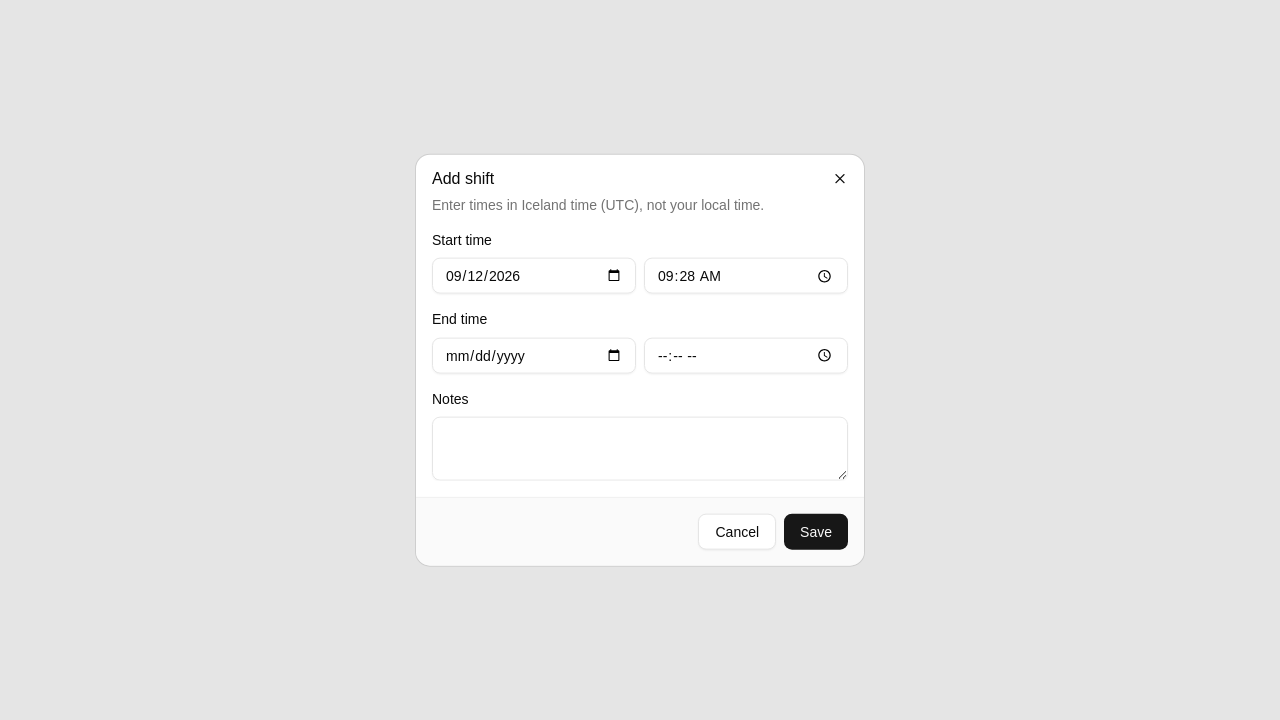
Scenario: ShiftForm › refuses a date with no clock beside it
Type "2026-08-04" into the date field named "End time — date" at (534, 355), box [432,337,636,373]
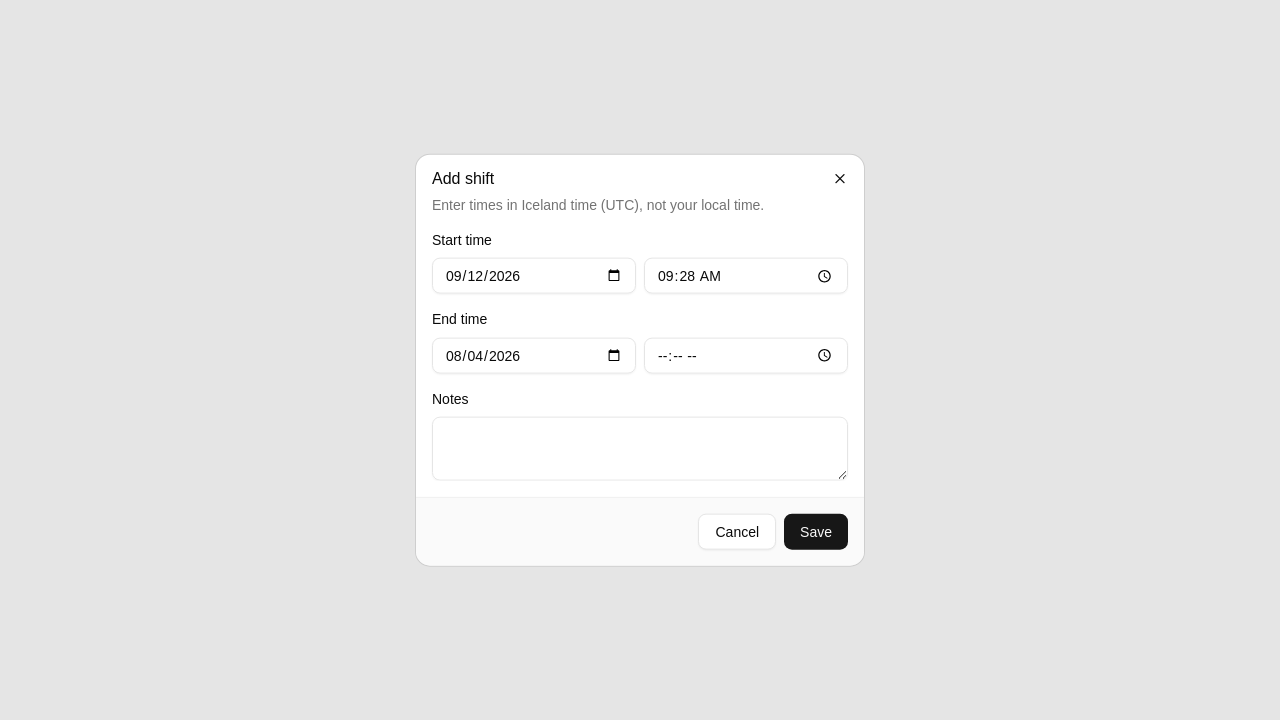
Click the button "Save" at (816, 531), box [784,513,848,549]
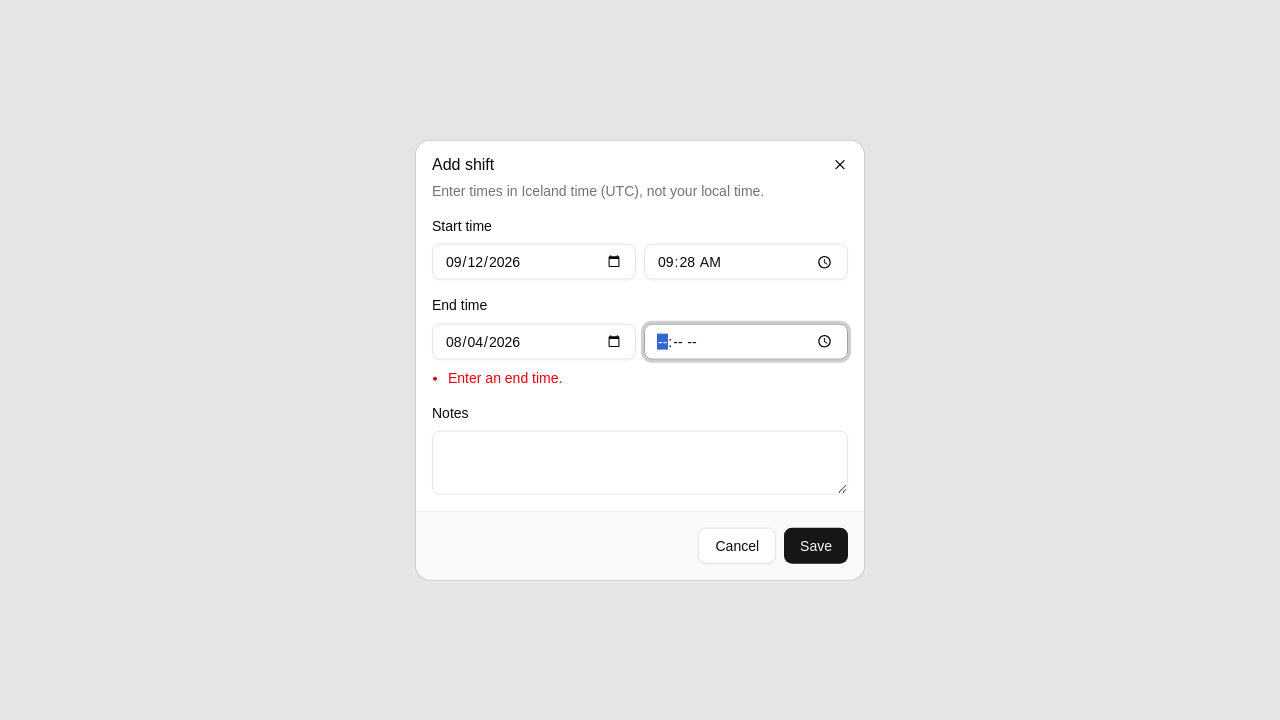
Check: the list item "Enter an end time." is shown, box [448,369,562,385]
